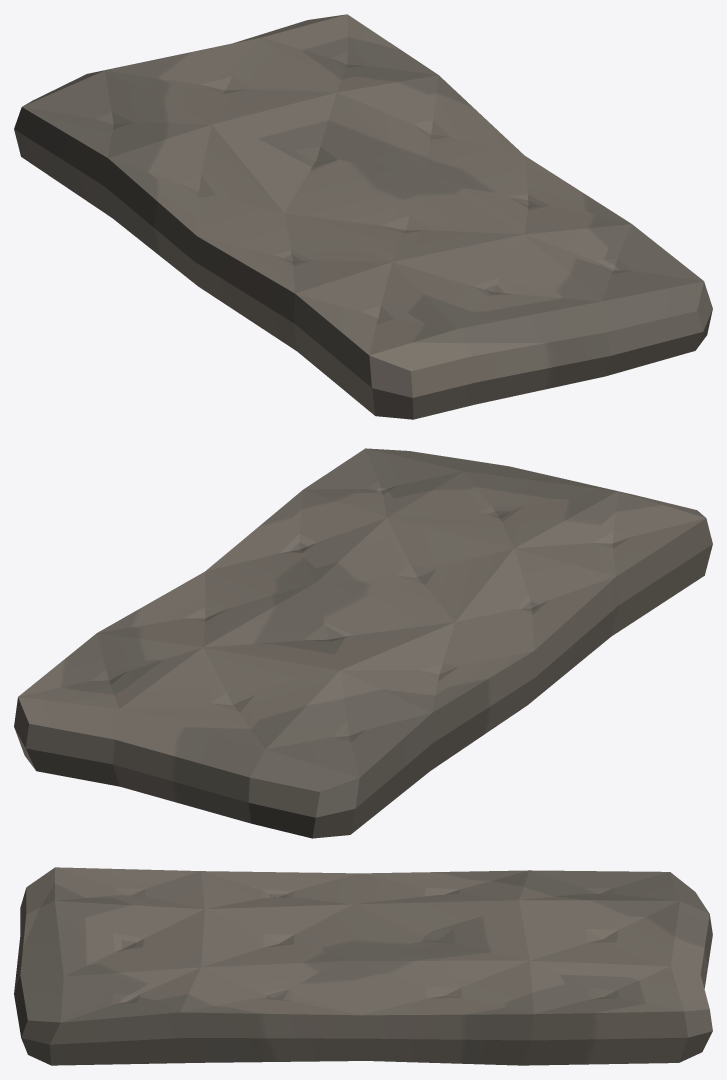
File: SM_Prop_BedMatress_01.obj
3 views of the same model, one above another, from view 1: azimuth 30°, elevation 25°; view 2: azimuth 150°, elevation 25°; view 3: azimuth 270°, elevation 25° (orthographic). The views are drawn at different scales.
Visible parts, largest first — view 1: SM_Prop_BedMatress_01_0; view 2: SM_Prop_BedMatress_01_0; view 3: SM_Prop_BedMatress_01_0.
Part boxes in pixels (x1,y1,x2,y2): SM_Prop_BedMatress_01_0: (14,14,712,419); SM_Prop_BedMatress_01_0: (14,448,712,838); SM_Prop_BedMatress_01_0: (14,867,712,1065).
Size of the model in its own units: 0.9537 by 0.1959 by 1.9.
1 material, 1 textured.
